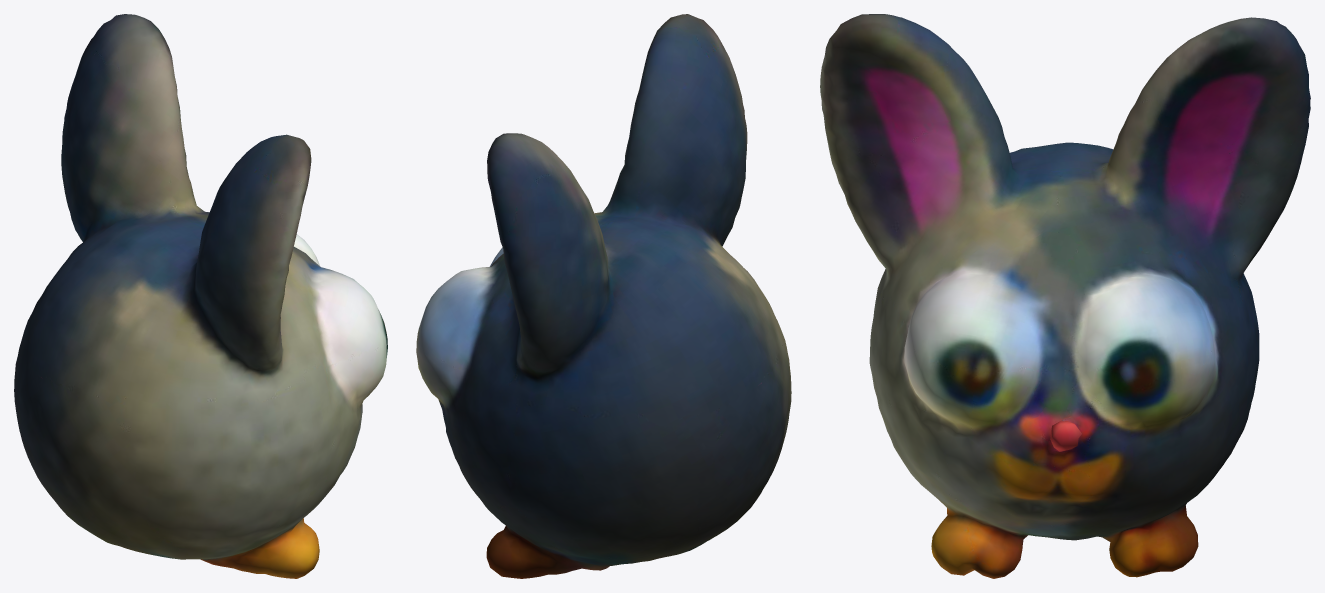
File: Create_rabbit_with_Wide_eyes_with_soft_eyebrows_a_subtle_sm_0614155514_preview.obj
3 renders of one model, left to right at view 1: azimuth 30°, elevation 25°; view 2: azimuth 150°, elevation 25°; view 3: azimuth 270°, elevation 25°, orthographic. The views are drawn at different scales.
Parts seen in each view (by area): view 1: Mesh1; view 2: Mesh1; view 3: Mesh1.
Part boxes in pixels (x1,y1,x2,y2): Mesh1: (14,14,387,578); Mesh1: (416,14,791,578); Mesh1: (820,14,1310,578).
Bounding box in the file's own units: 0.873 × 1.2 × 0.9928.
1 material, 1 textured.
